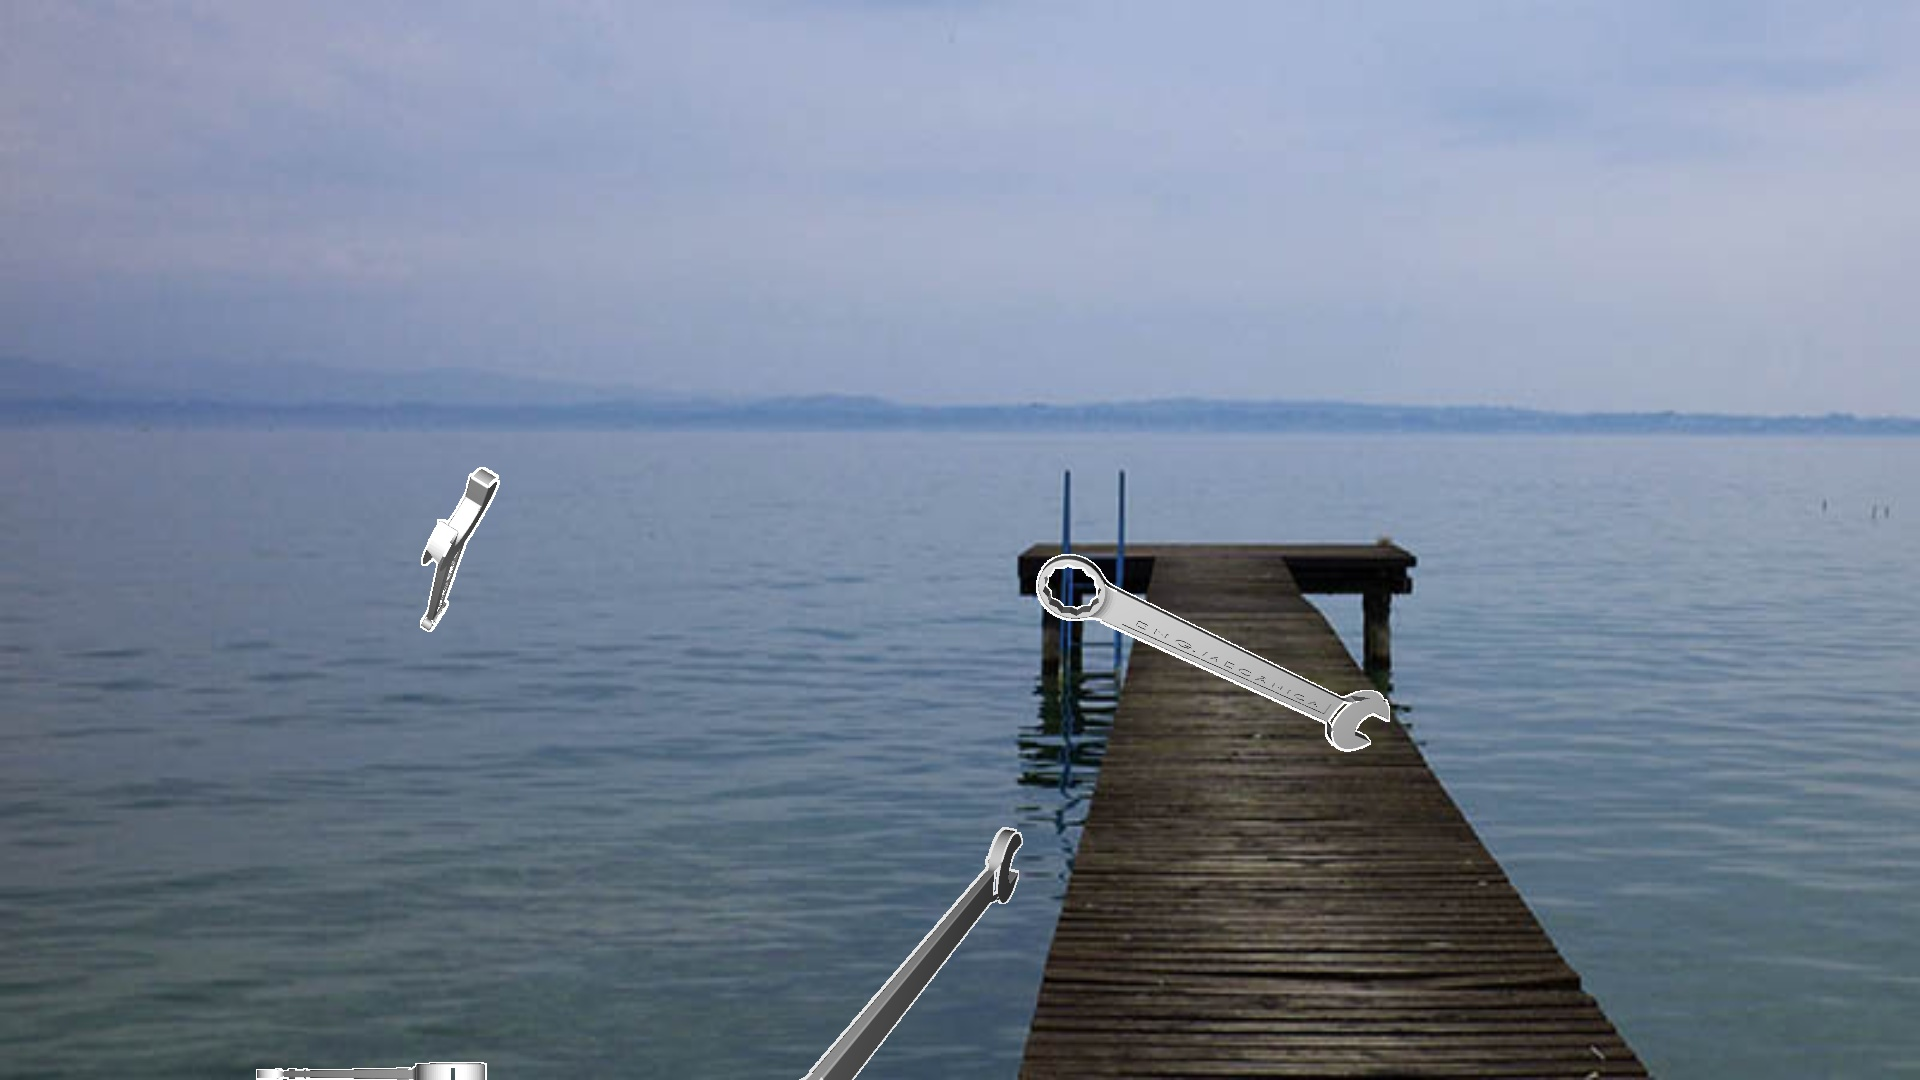Mixed Key: (1036, 554, 1389, 752), (799, 827, 1022, 1079), (419, 467, 498, 632), (256, 1062, 487, 1079)
